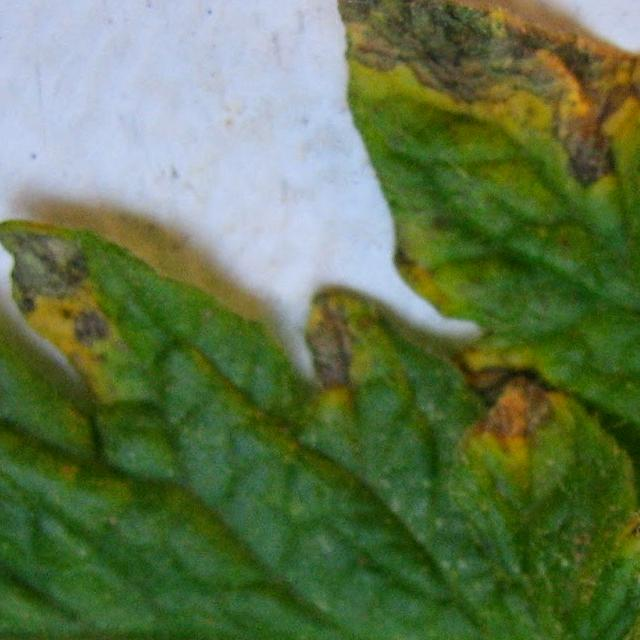Tomato Septoria leaf spot: (0, 219, 640, 640), (318, 0, 640, 640)
